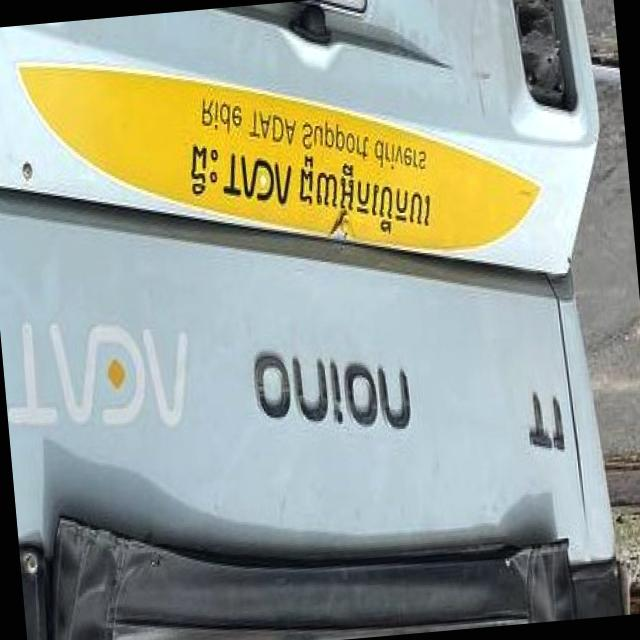Yolov11_80vkh: (294, 147, 437, 240), (179, 127, 219, 217)
